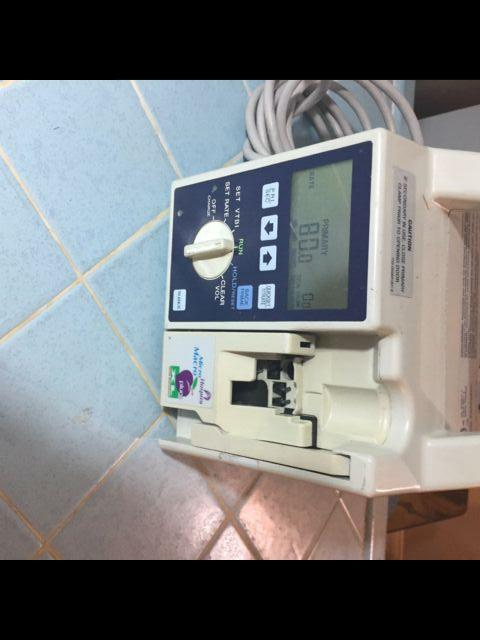plumxl1: (158, 92, 480, 504)
